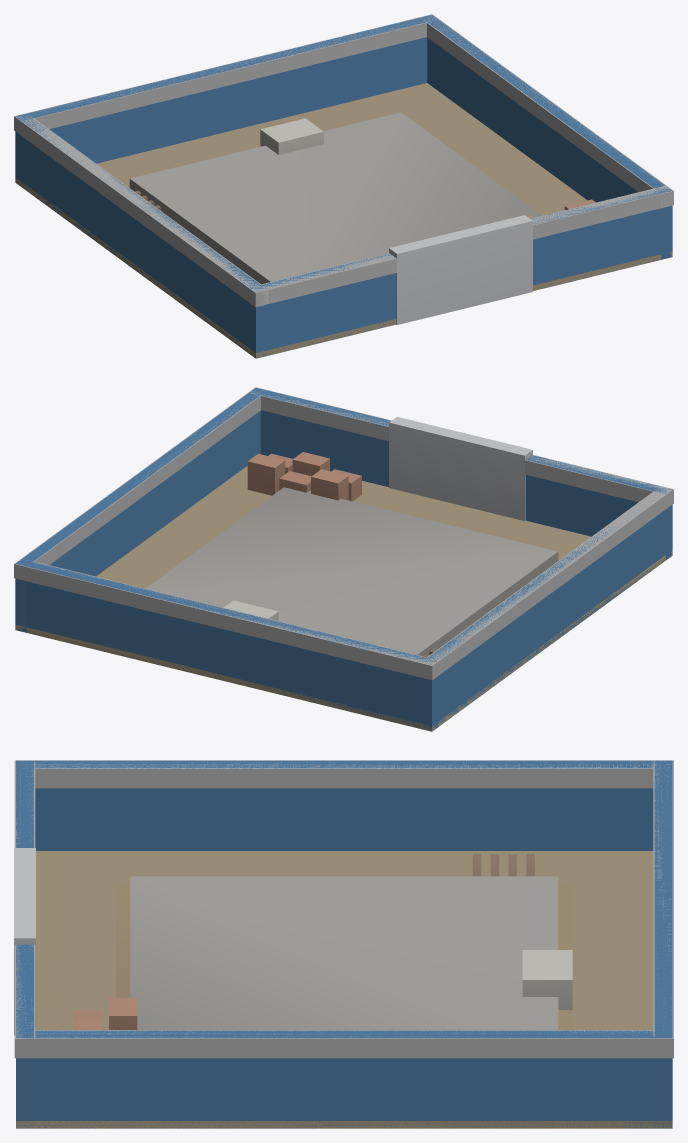
Rendered from build-1-0.glb.
The picture shows the model from 3 angles, top to bottom: view 1: azimuth 30°, elevation 25°; view 2: azimuth 150°, elevation 25°; view 3: azimuth 270°, elevation 25°; orthographic projection. The views are drawn at different scales.
Visible parts, largest first — view 1: build-1-0; view 2: build-1-0; view 3: build-1-0.
Part boxes in pixels (bbox=[...]): build-1-0: bbox=[14, 14, 673, 358]; build-1-0: bbox=[14, 387, 673, 731]; build-1-0: bbox=[14, 760, 673, 1128].
Bounding box in the file's own units: 0.924 × 0.15 × 0.925.
